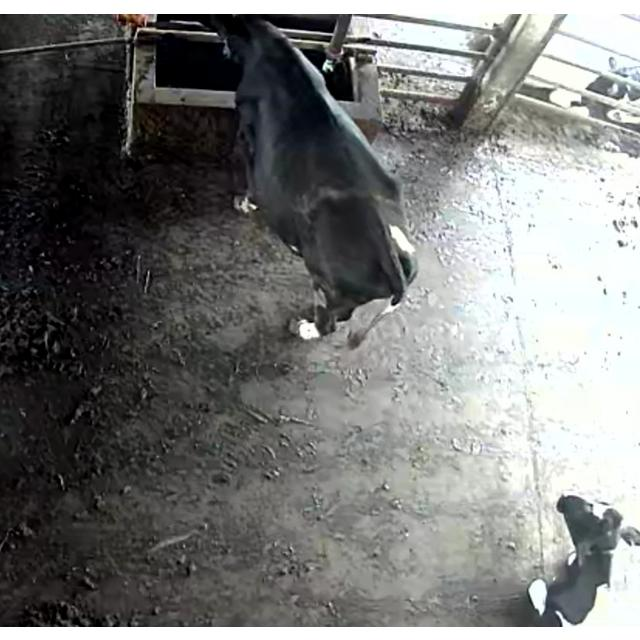drink: (197, 14, 345, 134)
